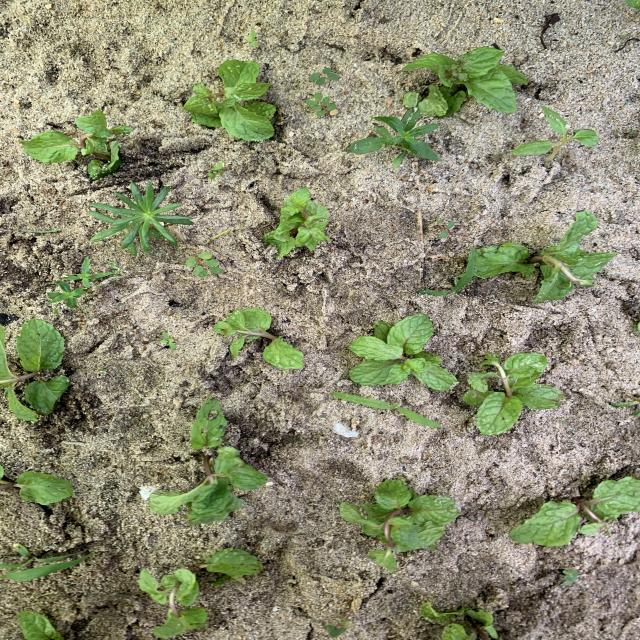crop: (149, 398, 266, 523), (473, 211, 615, 303), (139, 549, 263, 639), (340, 479, 458, 571), (510, 478, 639, 546), (403, 47, 527, 116), (349, 314, 455, 391), (464, 353, 563, 433), (185, 60, 275, 140), (22, 110, 131, 174), (1, 321, 69, 420), (215, 309, 303, 367), (264, 188, 329, 257), (420, 602, 498, 639), (0, 466, 72, 503), (19, 611, 63, 639)
weed: (92, 182, 192, 254), (349, 110, 439, 166), (512, 107, 597, 164), (331, 393, 439, 426), (0, 544, 88, 581), (420, 249, 477, 296), (48, 281, 88, 307), (187, 252, 222, 276), (306, 93, 337, 115), (325, 615, 351, 637), (309, 67, 339, 83), (436, 217, 455, 238), (560, 568, 578, 585), (208, 162, 223, 179), (613, 398, 639, 407), (161, 332, 175, 348), (248, 31, 258, 46), (110, 264, 122, 273), (98, 368, 106, 372), (558, 419, 565, 423)
